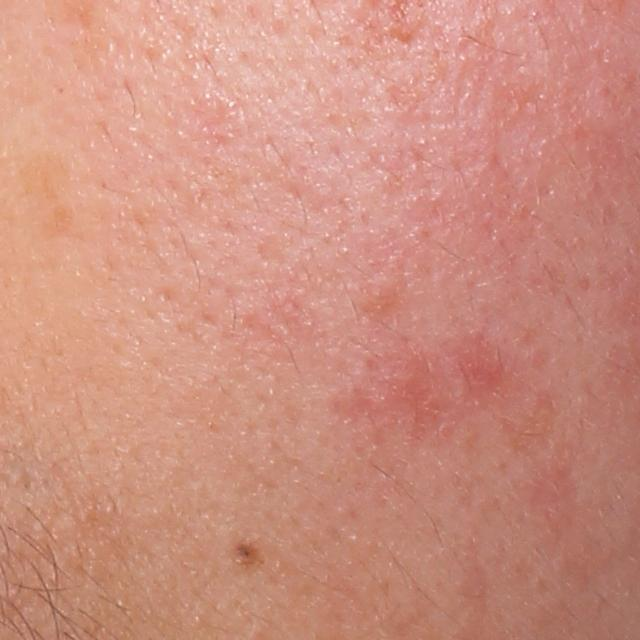nevus: (231, 540, 262, 569)
